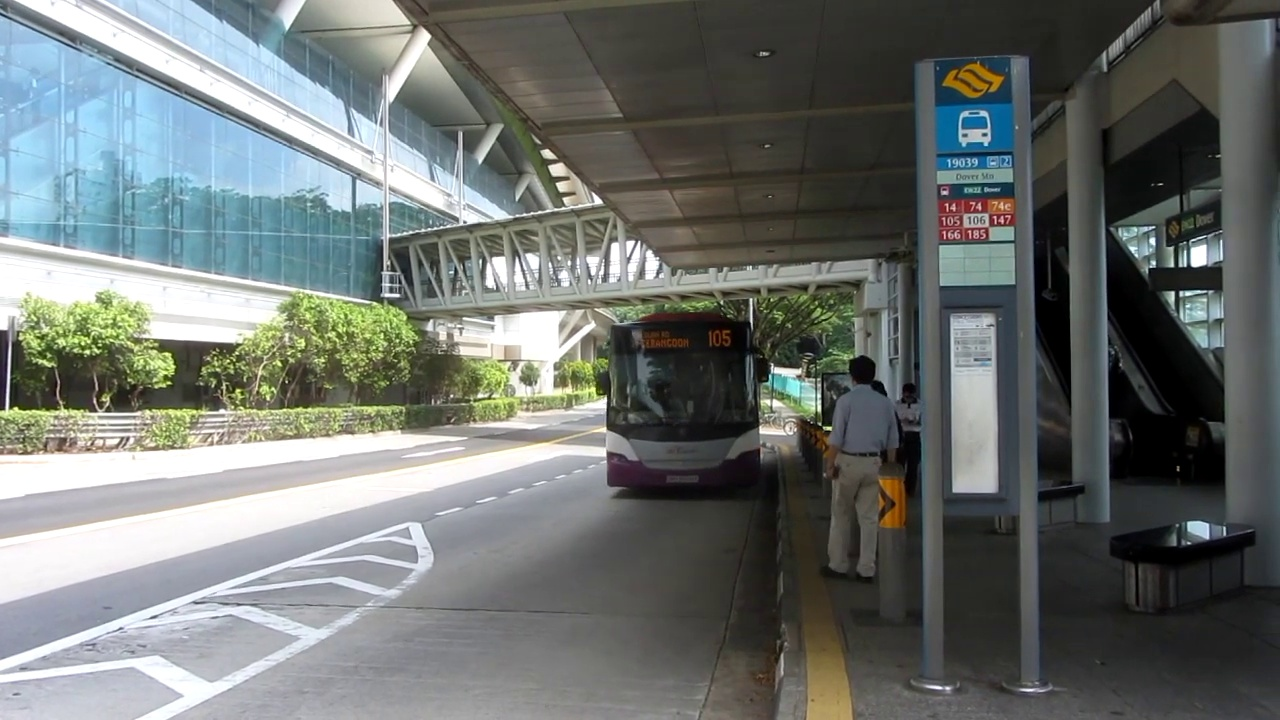bus panel: (629, 328, 733, 350)
